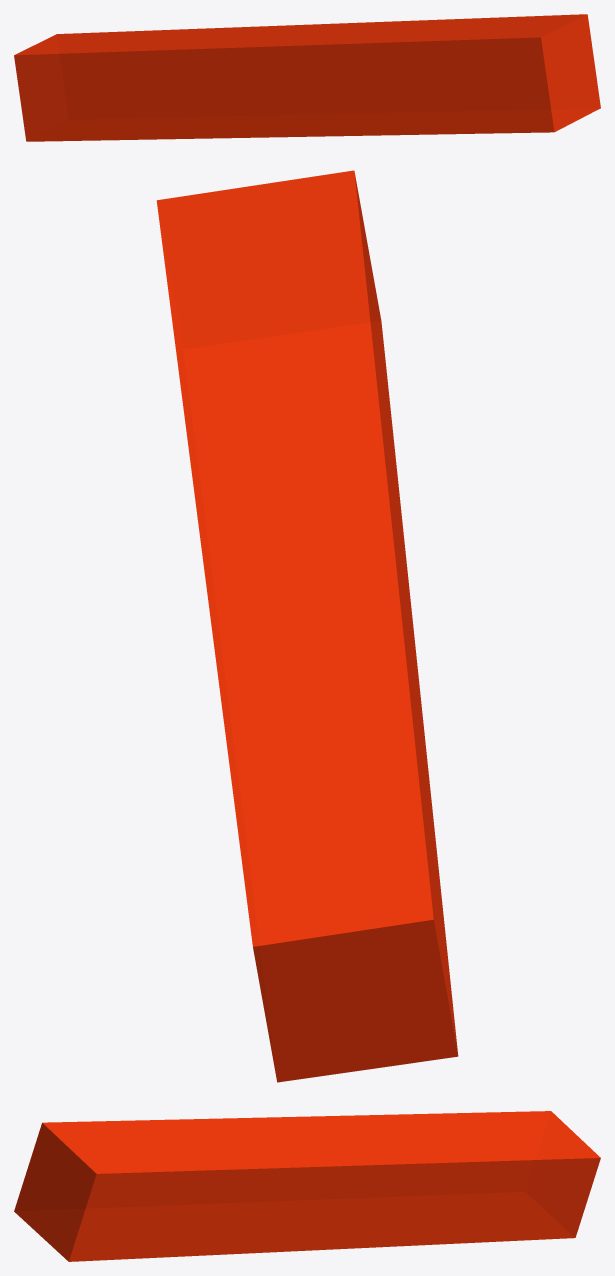
File: Event_421127236_EBrechit_46.fbx
The picture shows the model from 3 angles, top to bottom: view 1: azimuth 30°, elevation 25°; view 2: azimuth 150°, elevation 25°; view 3: azimuth 270°, elevation 25°; orthographic projection. The views are drawn at different scales.
Parts seen in each view (by area): view 1: Model; view 2: Model; view 3: Model.
Boxes of the visible parts, x1,y1,x2,y2 form: Model: [14, 14, 600, 141]; Model: [156, 170, 458, 1082]; Model: [14, 1111, 600, 1261].
Bounding box in the file's own units: 0.2583 × 0.1499 × 0.3529.
